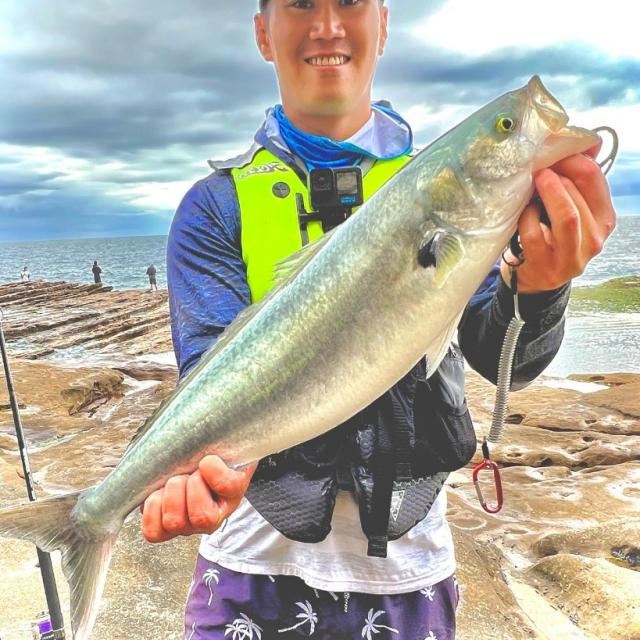Australian Salmon: (0, 62, 611, 634)
